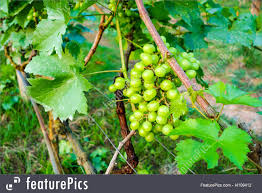grapes: (115, 44, 196, 138)
